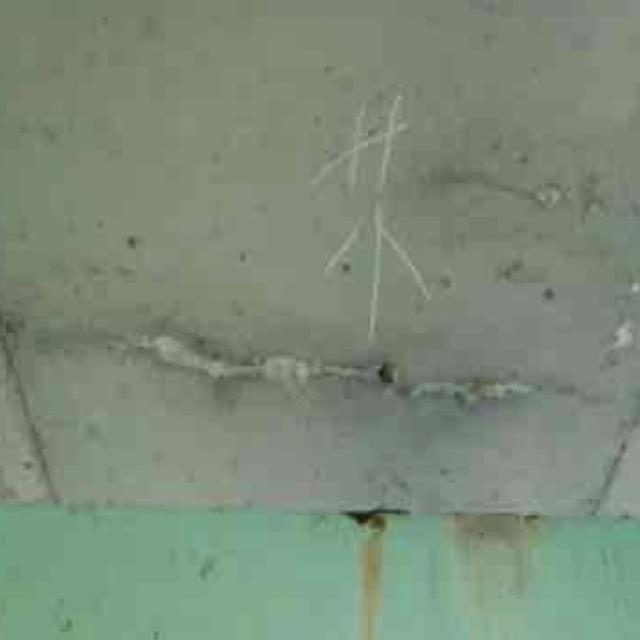freelime: (137, 317, 532, 414)
